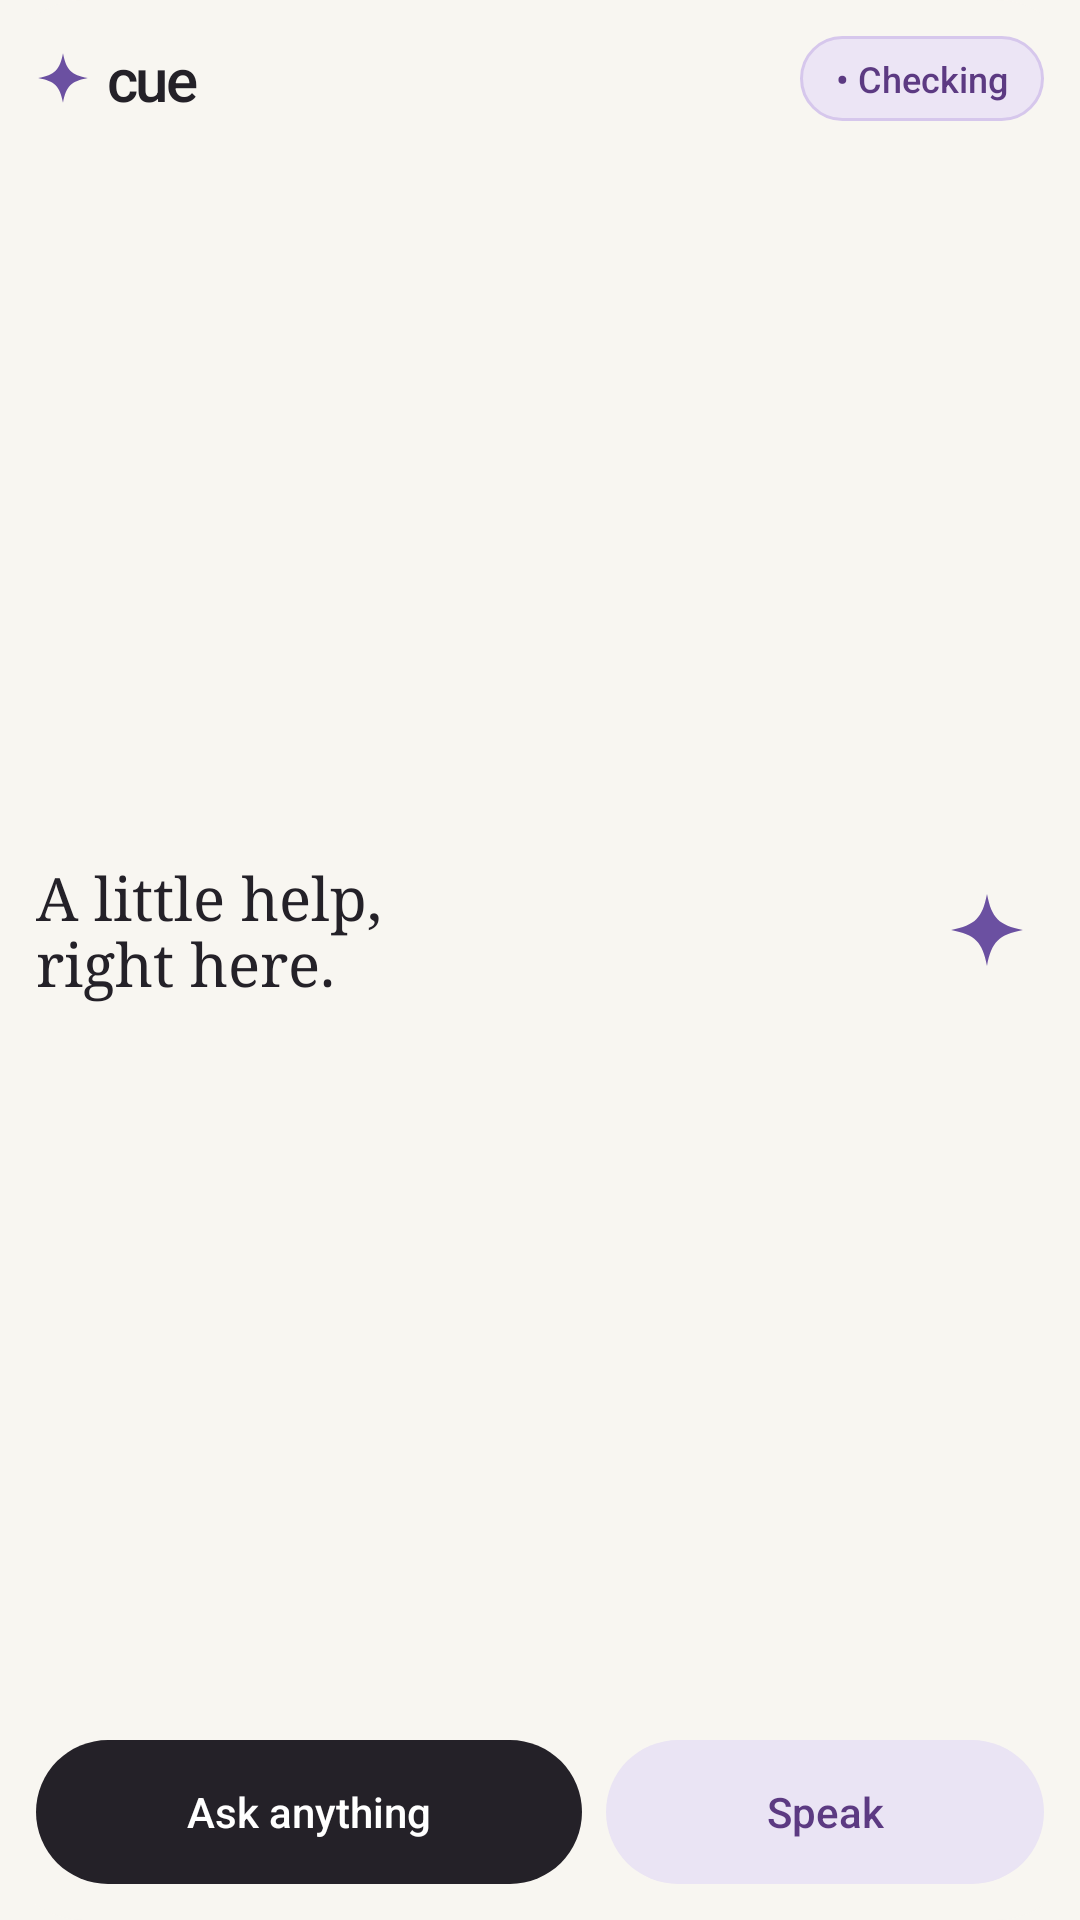

Named icons in this screenshot (1080x1920) and their bounding boxes, (x1, y1, x2, y2):
Cue spark: (39, 54, 87, 102)
Cue spark art: (952, 895, 1022, 965)
